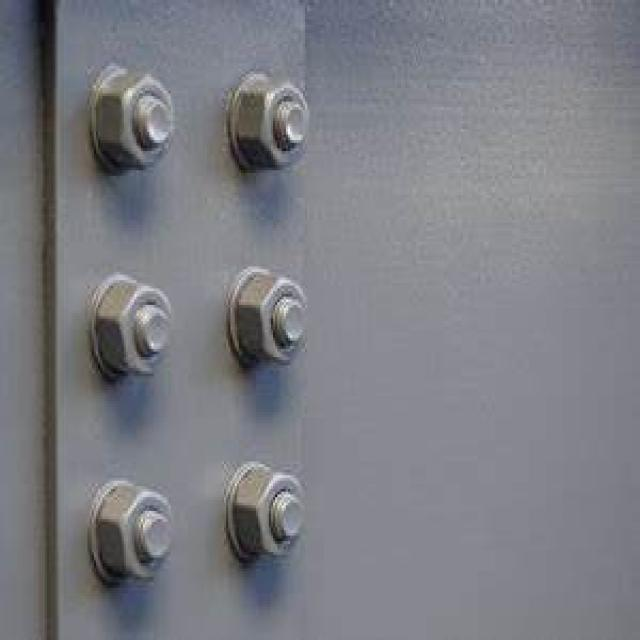bolt nut: (92, 272, 177, 382), (90, 69, 179, 173), (232, 69, 312, 173), (94, 481, 175, 582), (232, 270, 310, 366), (230, 462, 308, 558)
